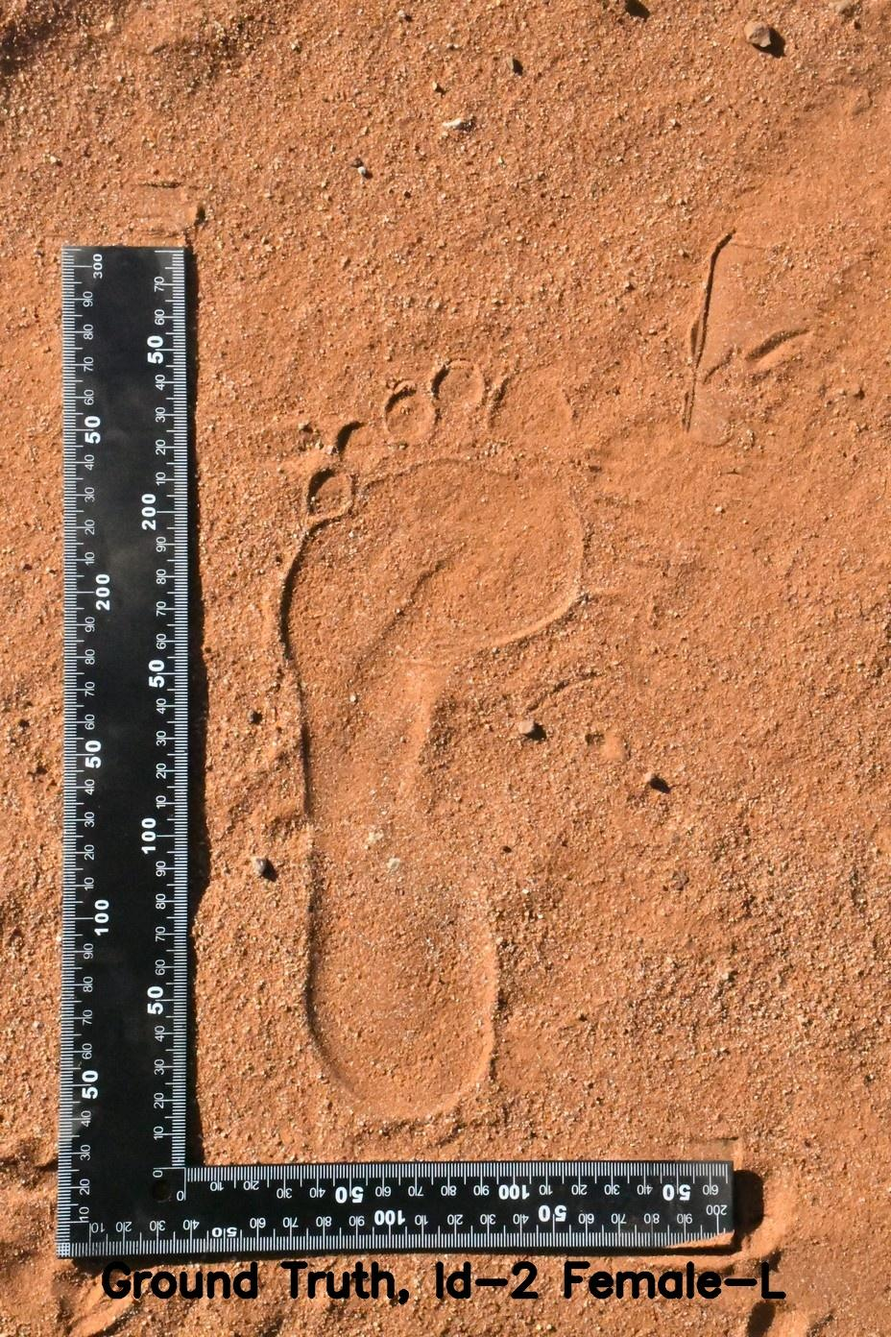human_footprint: (230, 289, 666, 1140)
